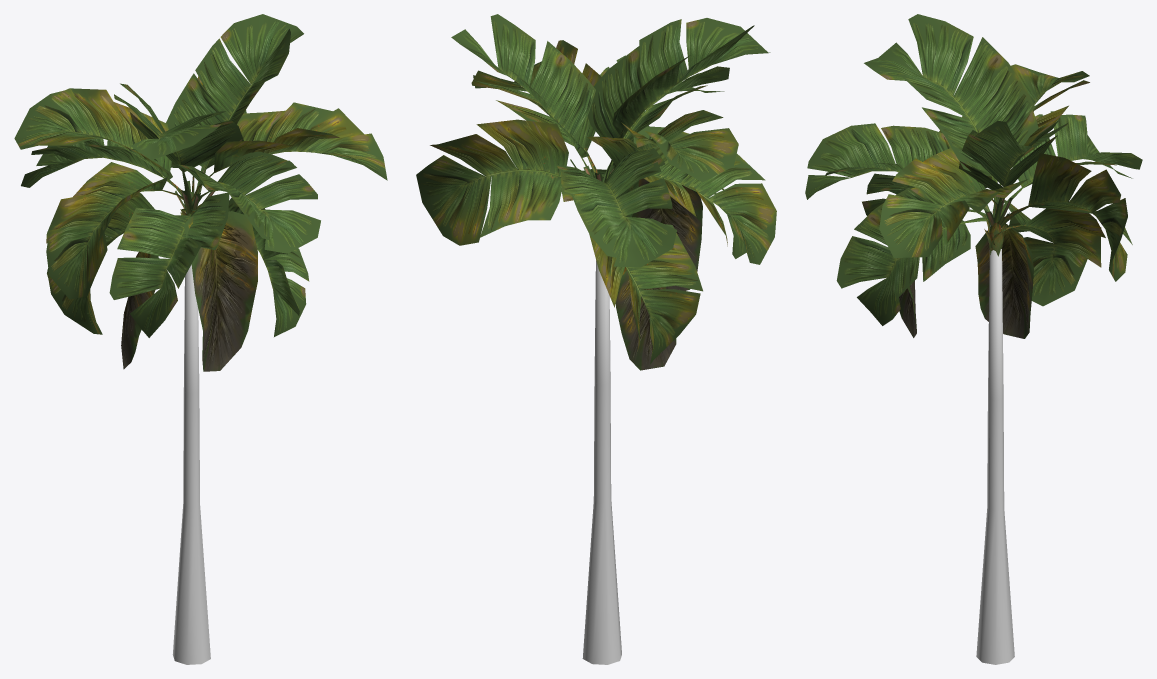
File: Arcea_palm4.fbx
The picture shows the model from 3 angles, left to right: view 1: azimuth 30°, elevation 25°; view 2: azimuth 150°, elevation 25°; view 3: azimuth 270°, elevation 25°; orthographic projection. The views are drawn at different scales.
Visible parts, largest first — view 1: polySurface117; view 2: polySurface117; view 3: polySurface117.
Part boxes in pixels (x1=…): polySurface117: x1=14, y1=14, x2=387, y2=664; polySurface117: x1=416, y1=14, x2=776, y2=664; polySurface117: x1=805, y1=14, x2=1142, y2=664.
Bounding box in the file's own units: 20.47 × 38.79 × 20.03.
Materials: 2 (1 with a texture image).
